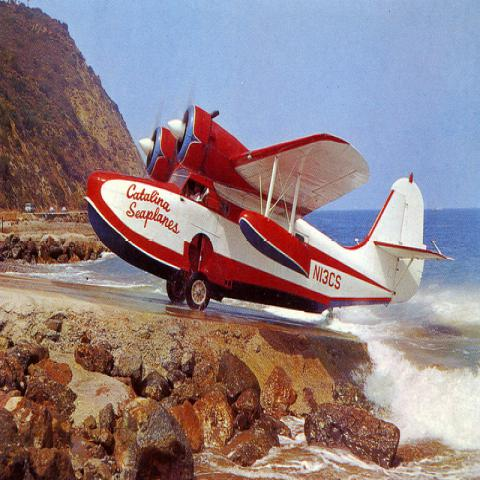car: (25, 204, 35, 212), (49, 206, 55, 213), (61, 206, 66, 212)
